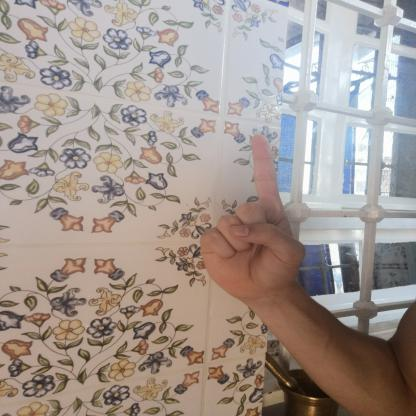BAA: (188, 127, 313, 314)
